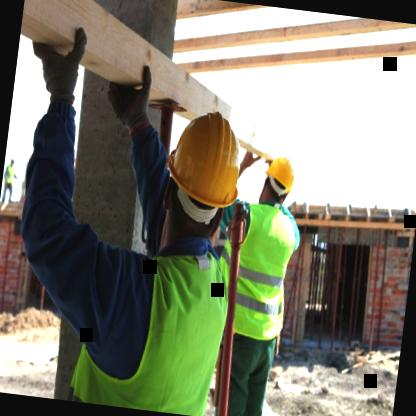helmet: (152, 99, 257, 238), (256, 144, 304, 212)
